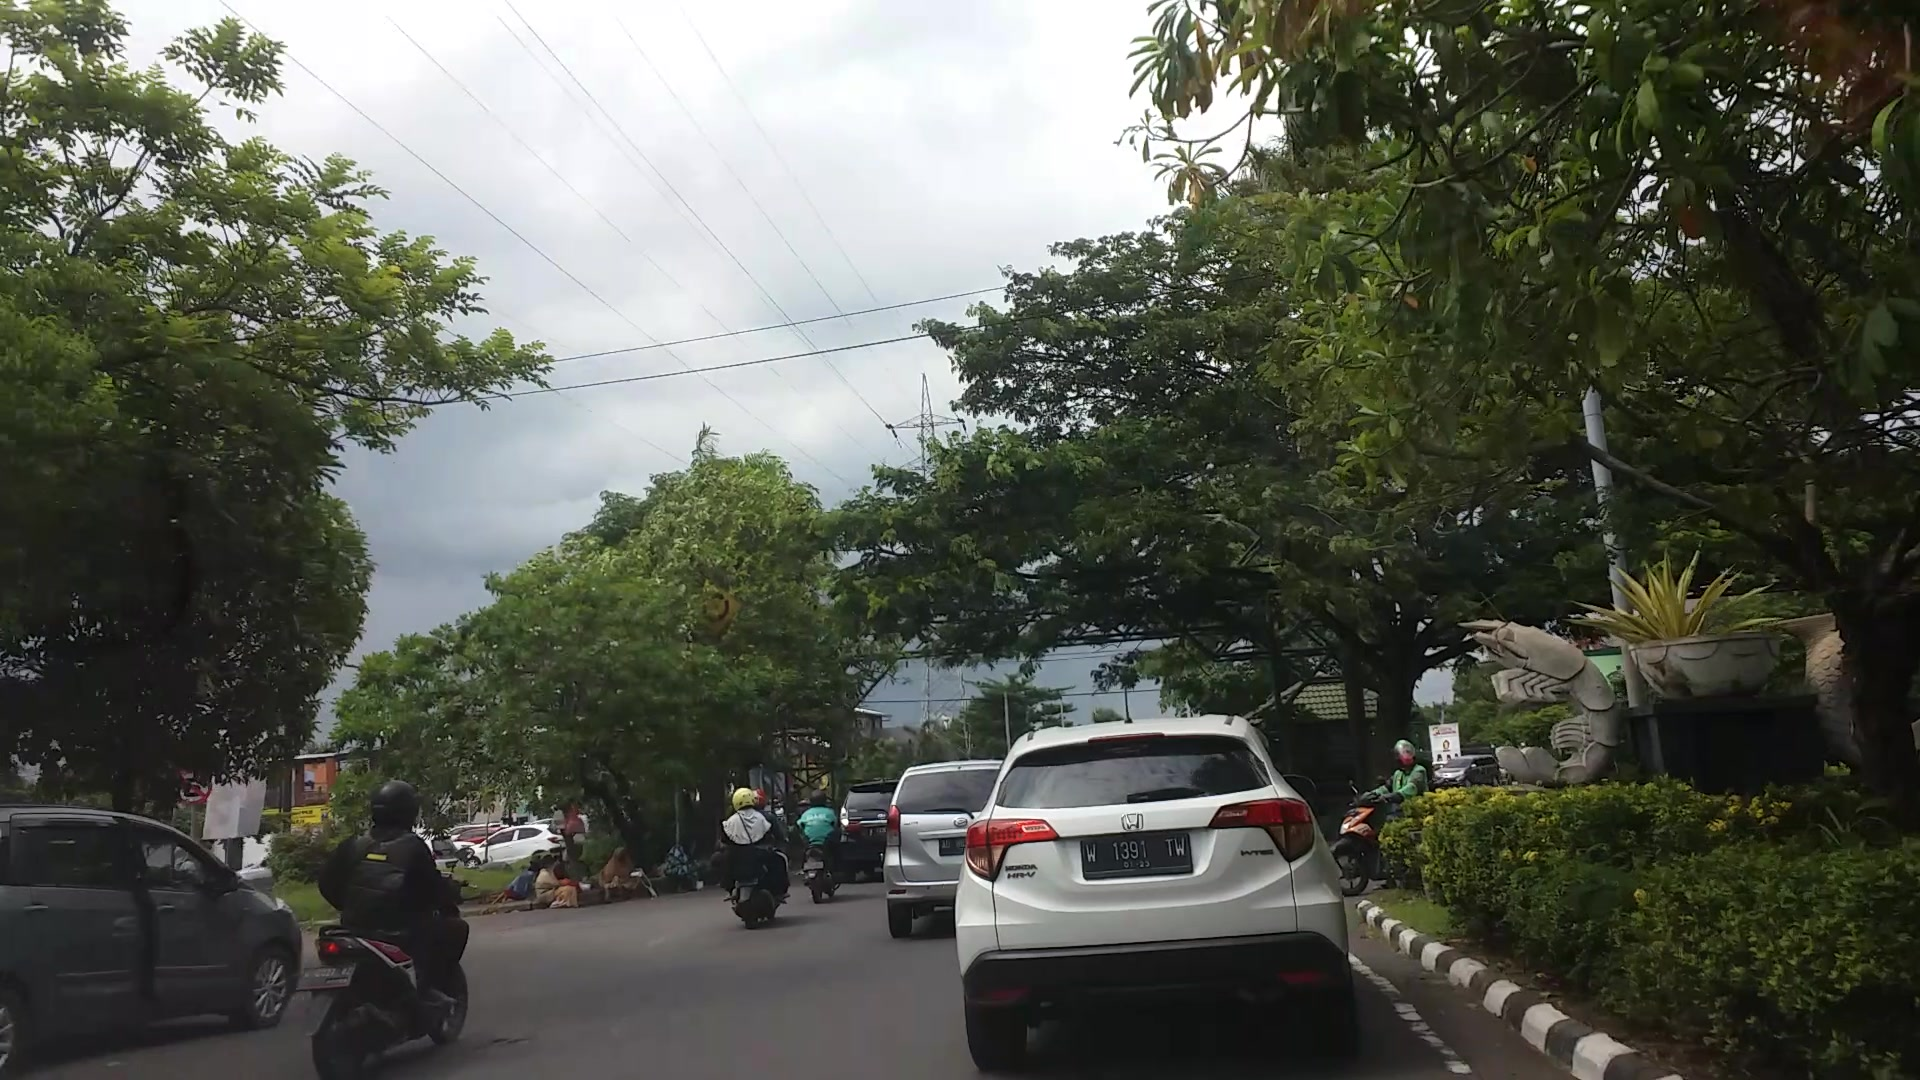plate_positive: (1083, 832, 1189, 880)
